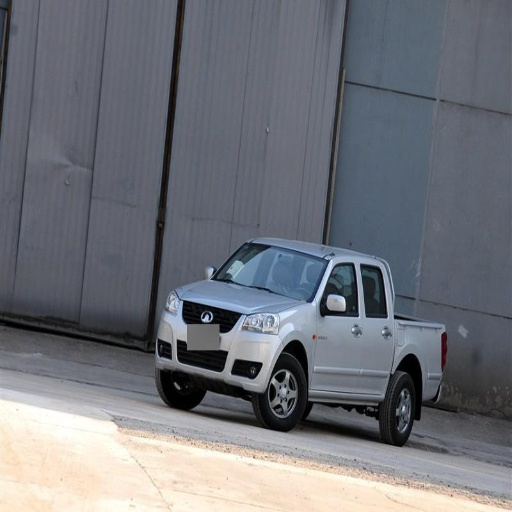back_left_door: (357, 260, 391, 396)
front_bumper: (158, 300, 281, 394)
front_glass: (212, 244, 326, 298)
front_left_door: (314, 259, 363, 392)
trunk: (395, 316, 444, 393)
